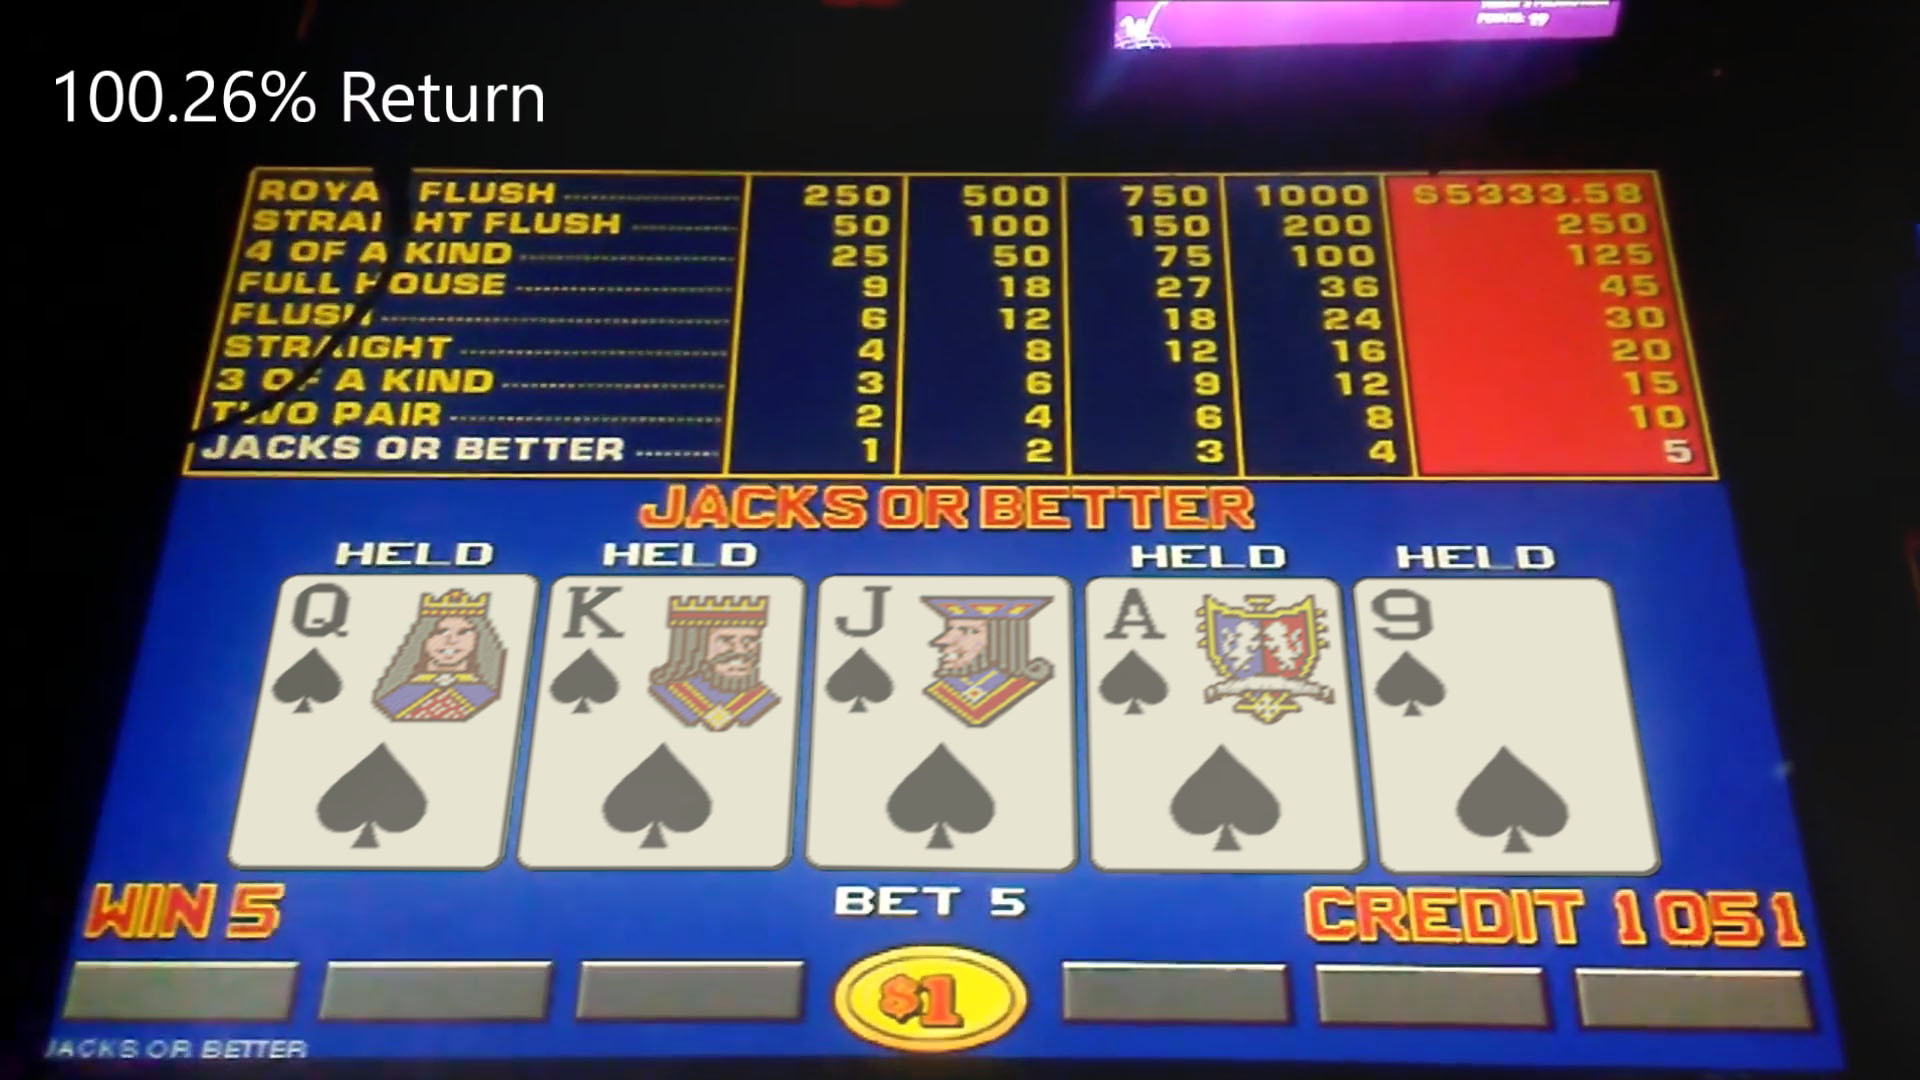S9: (1370, 582, 1611, 724)
SA: (1091, 580, 1338, 725)
SJ: (822, 576, 1068, 731)
SK: (553, 578, 793, 735)
SQ: (276, 576, 518, 727)
